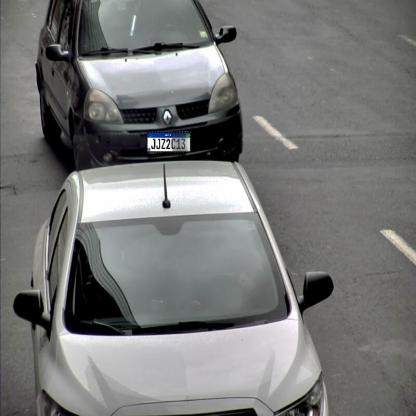PlacaM: (146, 132, 190, 152)
